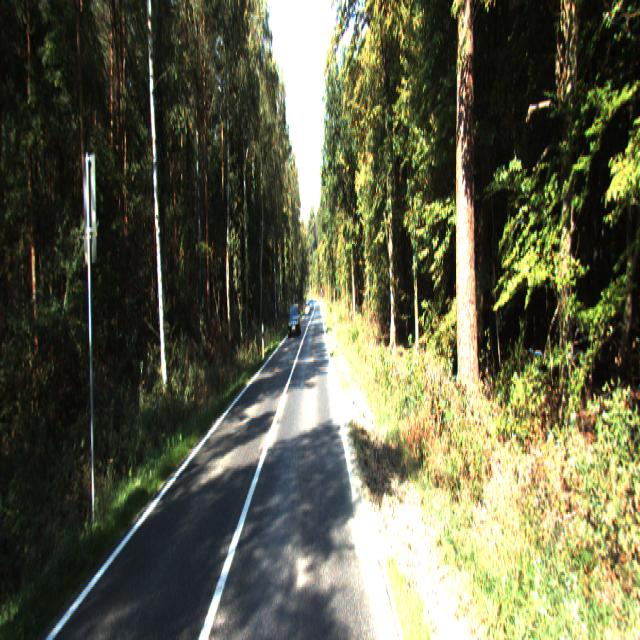Car: (287, 304, 301, 339)
DontCare: (302, 288, 314, 322)
